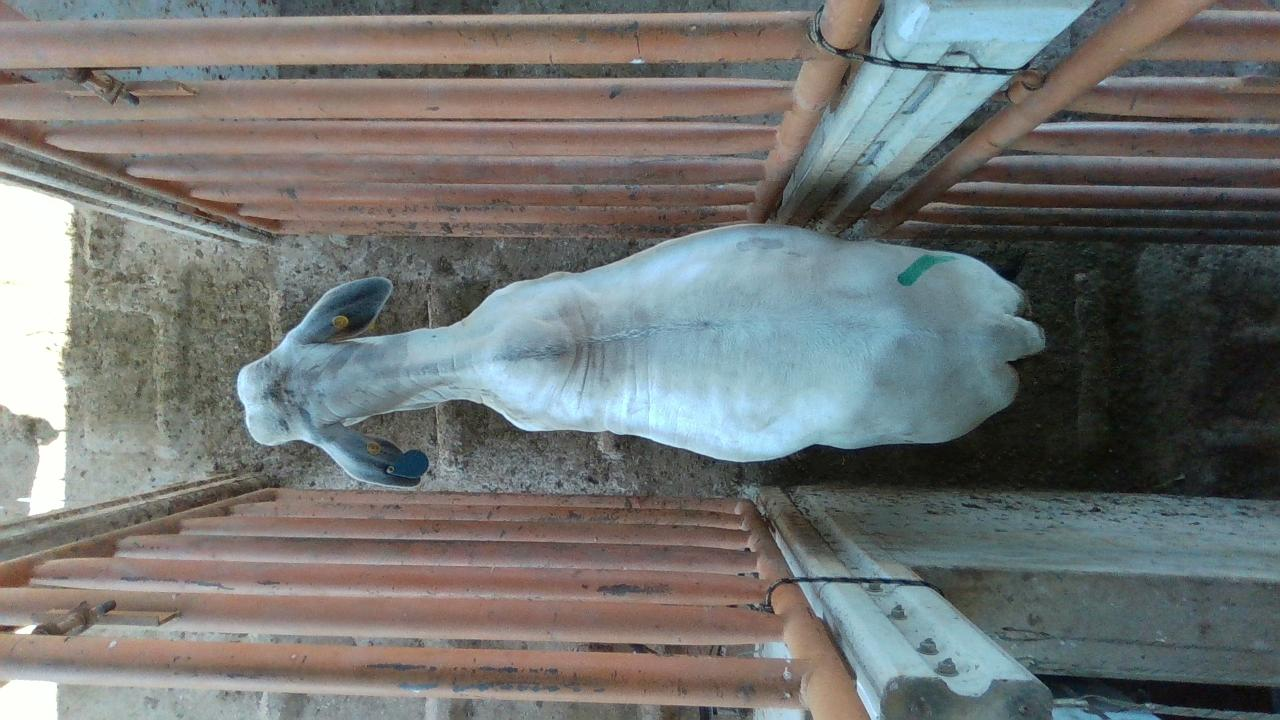cattle: (235, 220, 1047, 488)
